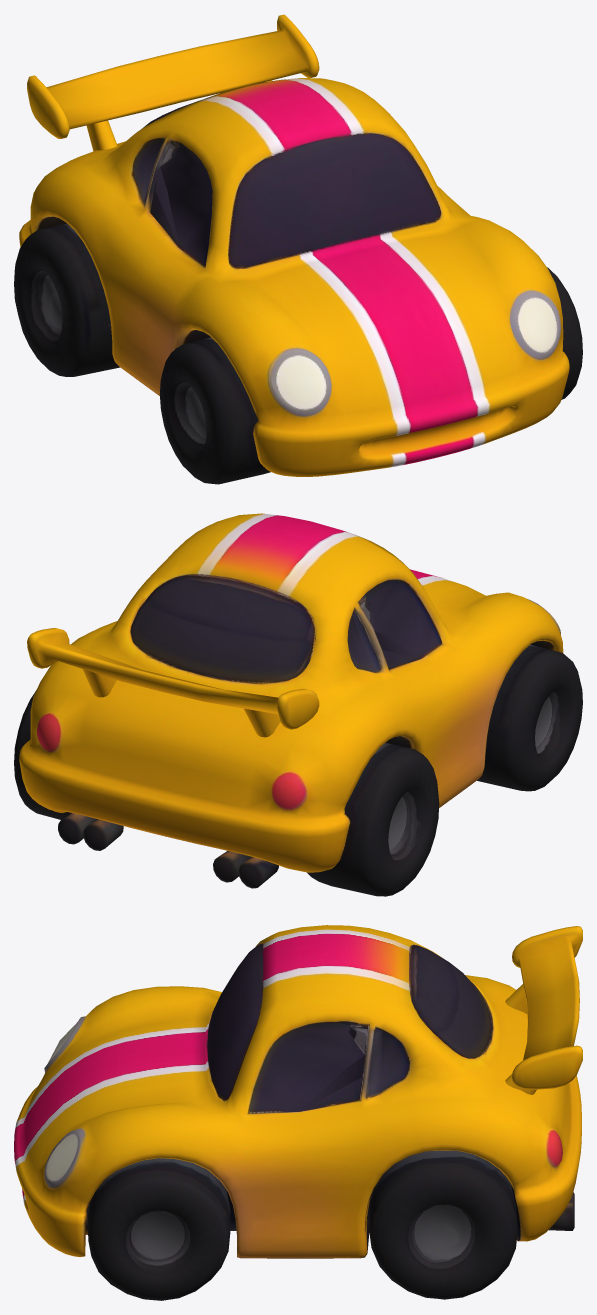
The model's file is hero.glb.
3 views of the same model, one above another, from view 1: azimuth 30°, elevation 25°; view 2: azimuth 150°, elevation 25°; view 3: azimuth 270°, elevation 25° (orthographic).
Visible parts, largest first — view 1: body, stock_spoiler; view 2: body, stock_spoiler; view 3: body, stock_spoiler.
Boxes of the visible parts, x1=… form: body: x1=14, y1=78, x2=582, y2=484; stock_spoiler: x1=27, y1=14, x2=319, y2=151; body: x1=14, y1=513, x2=582, y2=896; stock_spoiler: x1=27, y1=628, x2=319, y2=737; body: x1=14, y1=925, x2=581, y2=1300; stock_spoiler: x1=505, y1=926, x2=582, y2=1094.
Size of the model in its own units: 0.73 by 0.5288 by 0.9995.
Materials: 1 (1 with a texture image).
